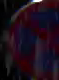No waiting: (5, 0, 58, 79)
